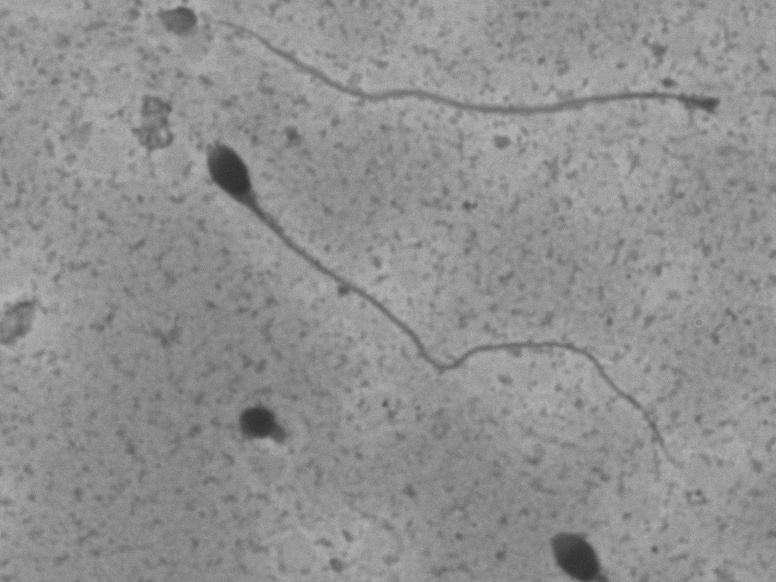Normal: (176, 128, 690, 485)
